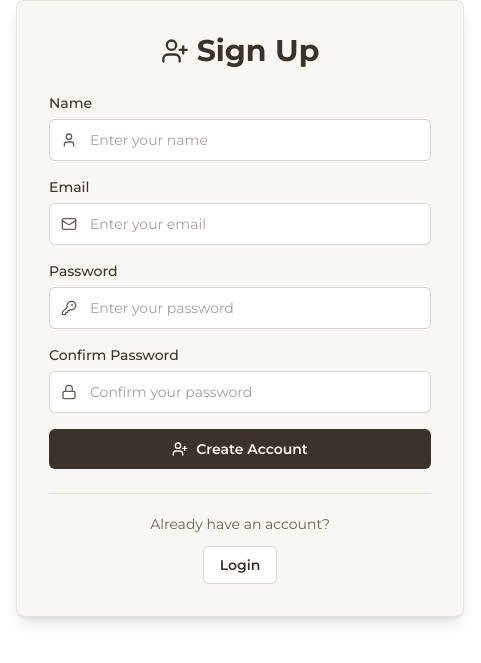
Register › rejects a confirmation that does not match the password
Type "Gold Fish" into the field labelled "Name". click: (240, 140)
box: top-left (49, 119), bottom-right (431, 161)
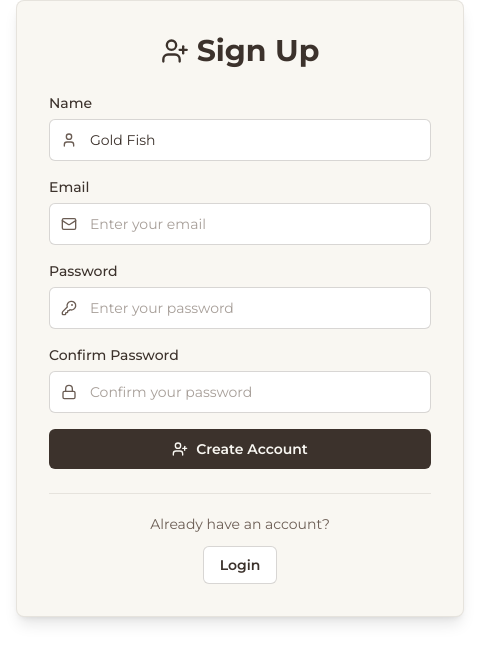
Type "user@example.com" into the field labelled "Email". click: (240, 224)
box: top-left (49, 203), bottom-right (431, 245)
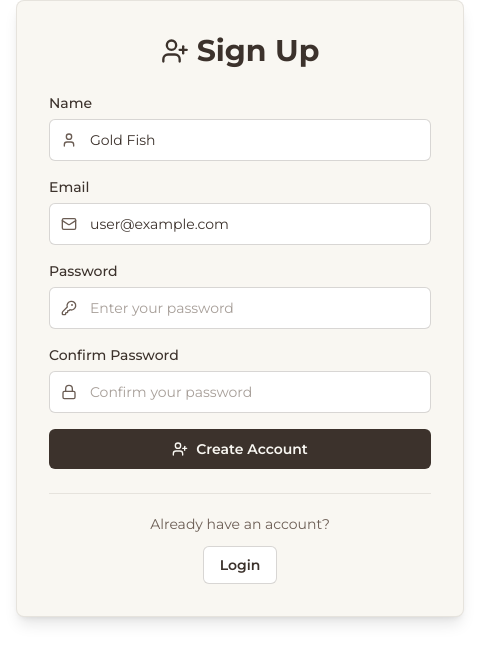
Type "secret1" into the password field labelled "Password". click: (240, 308)
box: top-left (49, 287), bottom-right (431, 329)
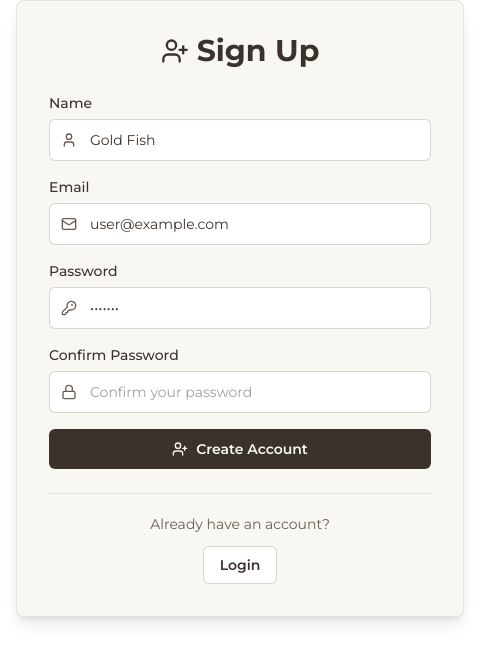
Type "secret2" into the password field labelled "Confirm Password". click: (240, 392)
box: top-left (49, 371), bottom-right (431, 413)
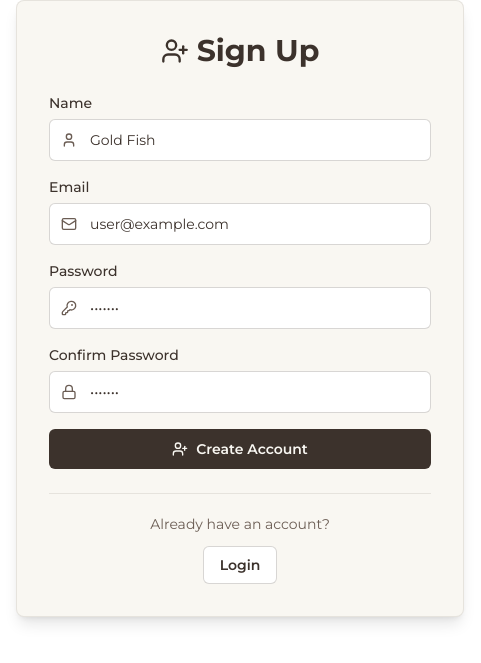
Click the button "Create Account". click: (240, 449)
box: top-left (49, 429), bottom-right (431, 469)
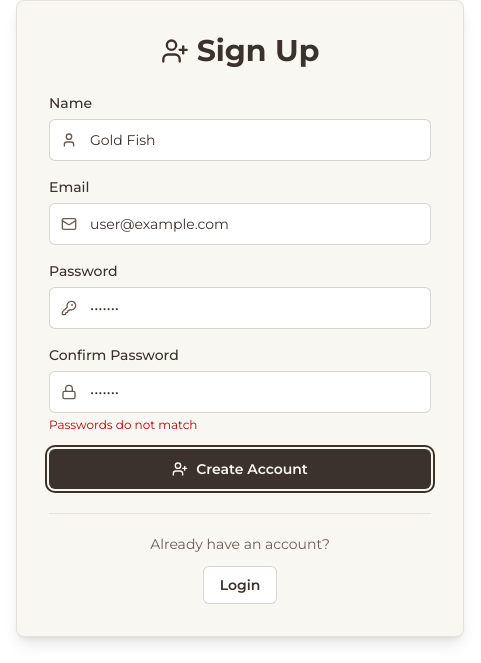
Expected: the text "Passwords do not match" is shown, top-left (49, 417), bottom-right (198, 432)
